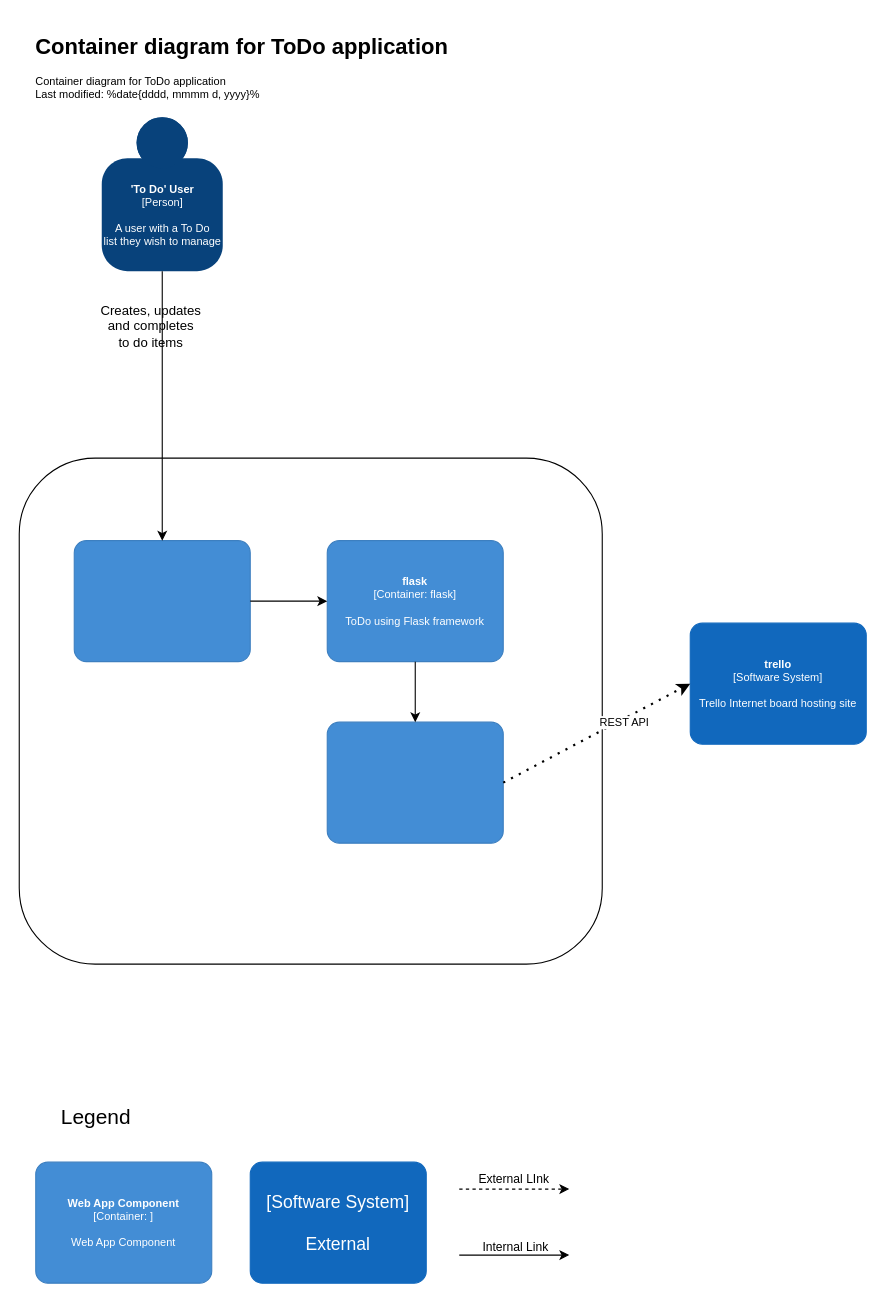
This 886x1302 diagram has some shape labels left out. Here are the shapes that lost their labels. From the top down, the centre of each, then its label:
At [161,601]: "Python WSGI HTTP Server [Container: gunicorn] Python WSGI HTTP Server".
At [414,782]: "Todo-App Application code [Container: python] Todo-App Application code".
